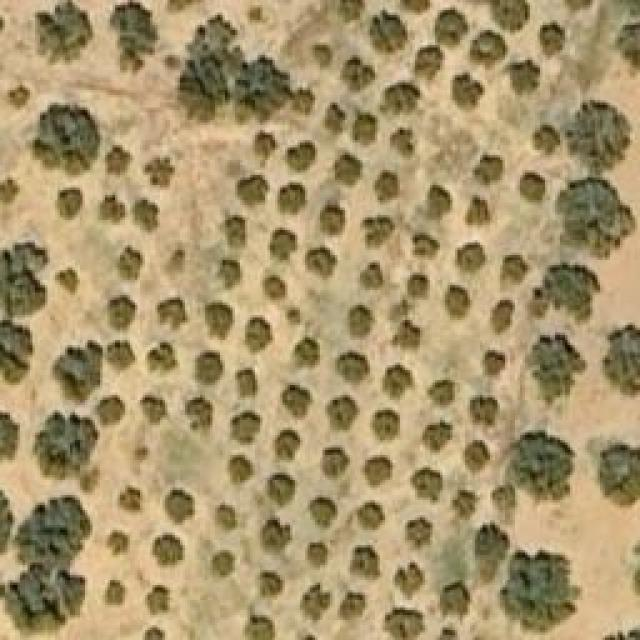Tree: (557, 178, 635, 258), (178, 23, 241, 118), (33, 410, 103, 495), (498, 552, 573, 630), (32, 100, 100, 183), (565, 100, 633, 173), (15, 500, 83, 568), (525, 333, 585, 408), (533, 263, 603, 326), (510, 430, 573, 500), (230, 55, 288, 123), (35, 0, 92, 62), (110, 3, 158, 76), (50, 340, 103, 405), (17, 575, 75, 630), (0, 240, 42, 305), (602, 325, 640, 395), (597, 445, 640, 505), (467, 523, 505, 578), (0, 318, 35, 373), (468, 30, 508, 70), (370, 13, 405, 56), (450, 73, 485, 113), (380, 80, 420, 115), (383, 363, 416, 403), (488, 0, 531, 30), (418, 183, 448, 226), (328, 395, 361, 433), (393, 562, 426, 600), (382, 607, 419, 640), (203, 298, 233, 338), (143, 155, 176, 190), (338, 350, 371, 385), (230, 410, 263, 445), (438, 10, 471, 45), (510, 60, 540, 98), (468, 392, 498, 430), (245, 602, 275, 640), (258, 517, 288, 555), (185, 395, 213, 435), (275, 183, 308, 216), (455, 243, 488, 276), (345, 110, 378, 143), (95, 530, 133, 558), (195, 353, 225, 388), (370, 408, 400, 443), (225, 455, 255, 490), (440, 580, 470, 615), (348, 545, 378, 580), (473, 153, 503, 186), (308, 245, 338, 278), (365, 455, 395, 488), (300, 583, 330, 616), (413, 468, 443, 501), (235, 175, 268, 205), (340, 58, 373, 88), (115, 245, 143, 280), (462, 440, 490, 475), (165, 490, 193, 525), (537, 23, 565, 58), (490, 297, 515, 335), (335, 153, 363, 186), (107, 298, 135, 331), (347, 305, 375, 338), (245, 318, 273, 351), (272, 428, 300, 461), (428, 377, 461, 405), (288, 143, 318, 173), (158, 298, 188, 328), (148, 343, 178, 373), (423, 420, 453, 450), (153, 535, 183, 565), (265, 475, 295, 505), (58, 188, 83, 223), (320, 200, 345, 235), (445, 285, 470, 320), (105, 148, 133, 178), (532, 125, 560, 155), (390, 128, 418, 158), (282, 385, 310, 415), (360, 215, 388, 245), (265, 230, 293, 260), (320, 450, 348, 480), (520, 173, 545, 206), (218, 505, 251, 530), (107, 340, 135, 368), (140, 395, 168, 423), (392, 322, 420, 350), (335, 590, 363, 618), (335, 2, 363, 30), (100, 193, 125, 223), (133, 200, 158, 230), (465, 195, 490, 225), (145, 585, 170, 615), (258, 573, 288, 598), (97, 398, 125, 423), (503, 255, 528, 283), (453, 490, 478, 518), (408, 517, 433, 545), (305, 45, 333, 70), (308, 497, 333, 525), (375, 173, 398, 203), (218, 258, 241, 288), (235, 368, 258, 398), (353, 265, 383, 288), (413, 230, 436, 258), (253, 130, 276, 158), (55, 268, 80, 293), (225, 218, 245, 248), (8, 85, 31, 110), (295, 340, 318, 365), (105, 580, 128, 605), (358, 503, 381, 528), (210, 553, 233, 576), (305, 545, 328, 568), (403, 273, 426, 296), (130, 443, 153, 466), (0, 178, 20, 203), (485, 350, 505, 375), (265, 275, 285, 300), (120, 488, 140, 511), (325, 108, 343, 133), (293, 90, 313, 110)
